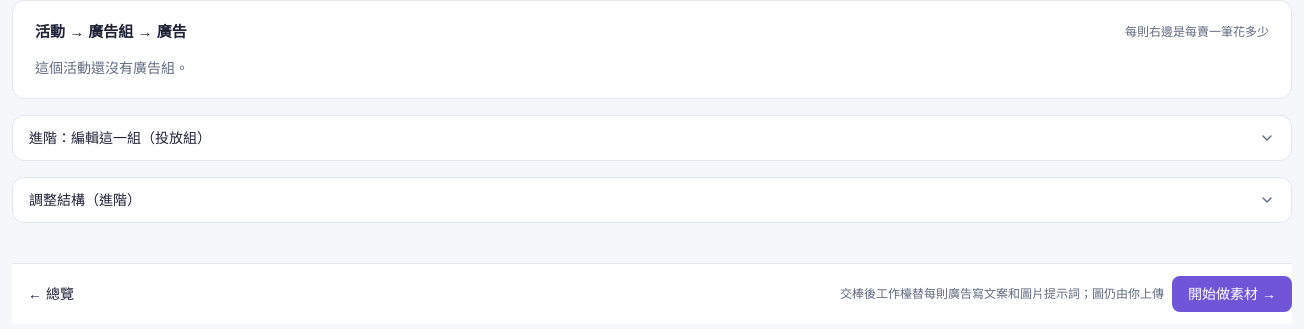
Test: DeliveryTab（F06-I02） › 交棒失敗、重讀後仍沒有 pack_id：錯誤印在動作列旁，按鈕還在
Click the button "開始做素材 →". click: {"x": 1232, "y": 294}
box: [1172, 276, 1292, 312]
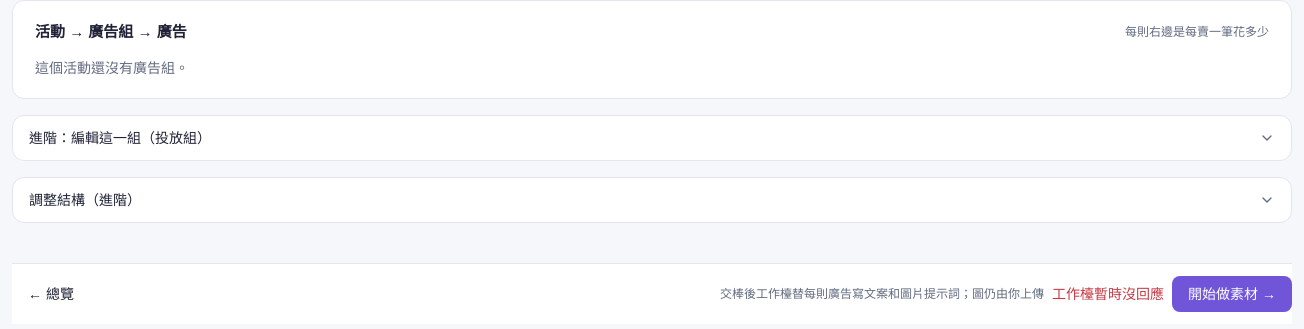
Expected: the message reads "工作檯暫時沒回應", [1052, 286, 1164, 302]
